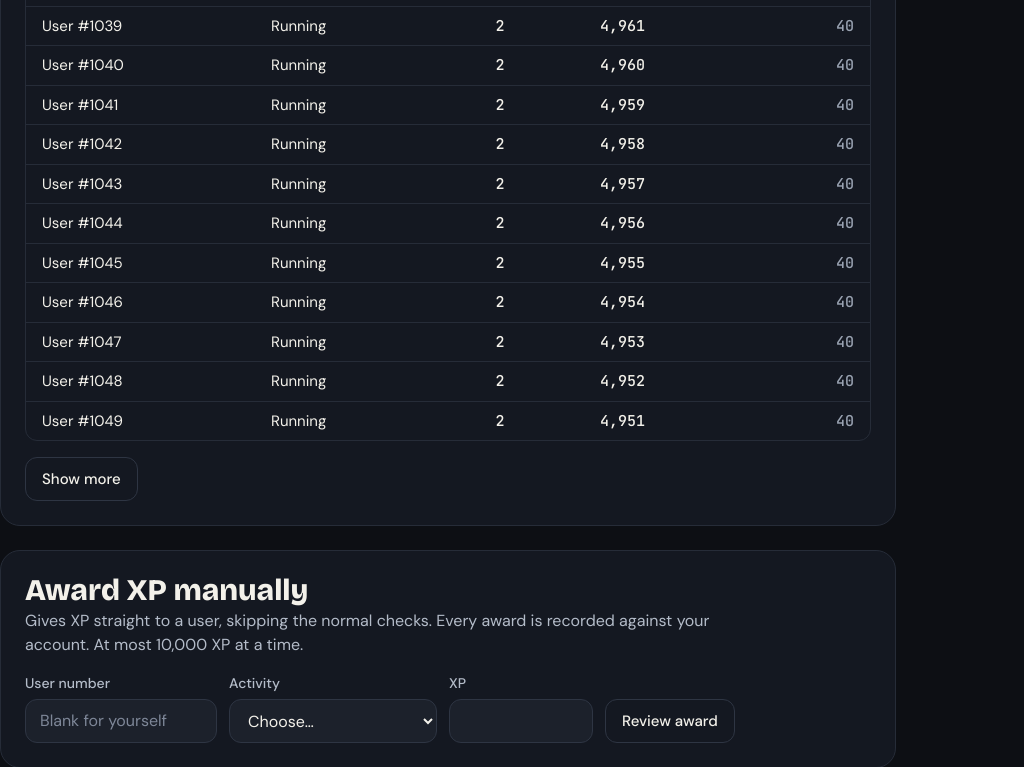
it: System tools — level trackers › shows 50 at a time
(page scrolled)
Click the button "Show more" at (81, 479), box [25, 457, 138, 501]
(page scrolled)
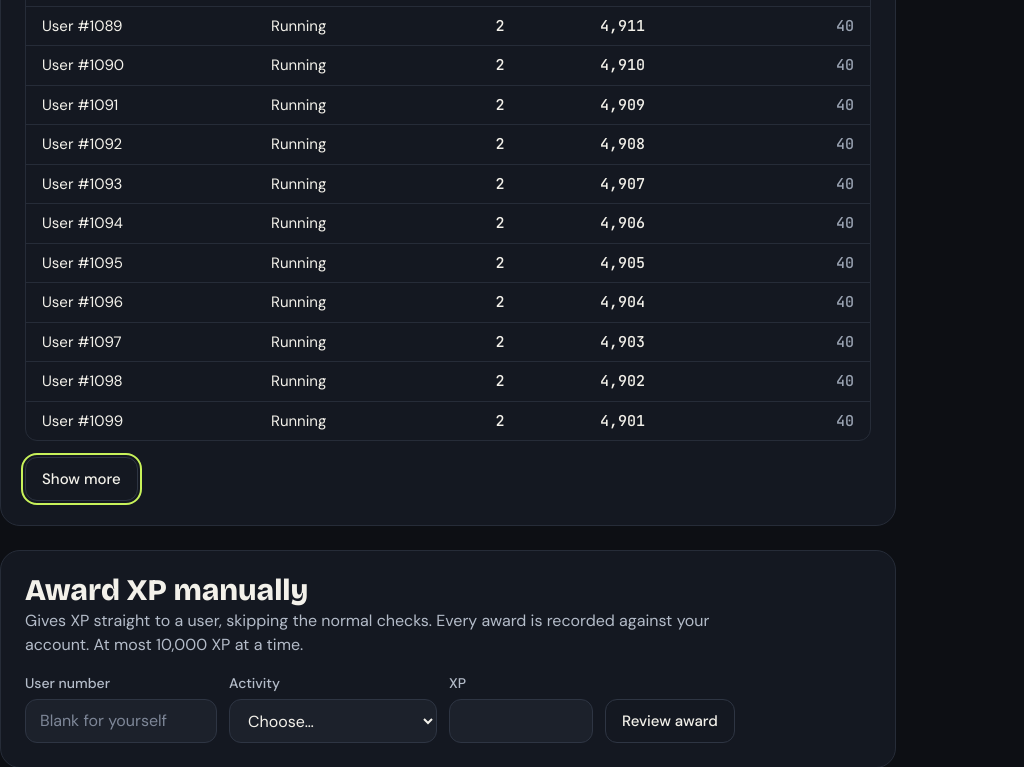
Click the button "Show more" at (81, 479), box [25, 457, 138, 501]
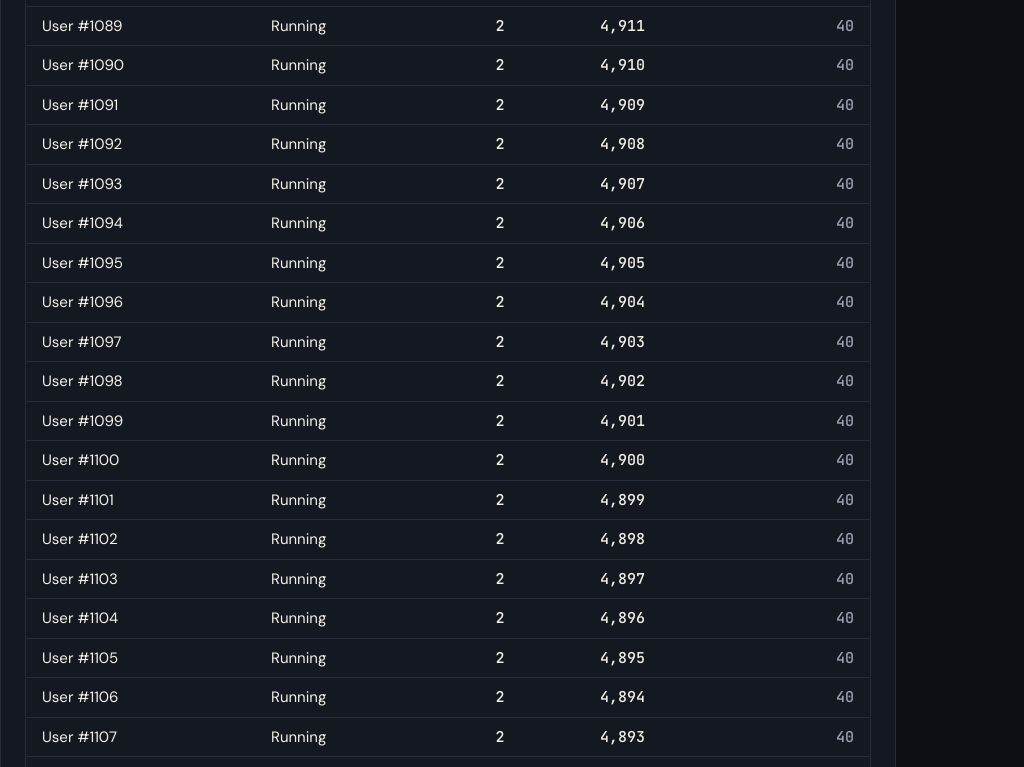
Check: the button "Show more" is gone
